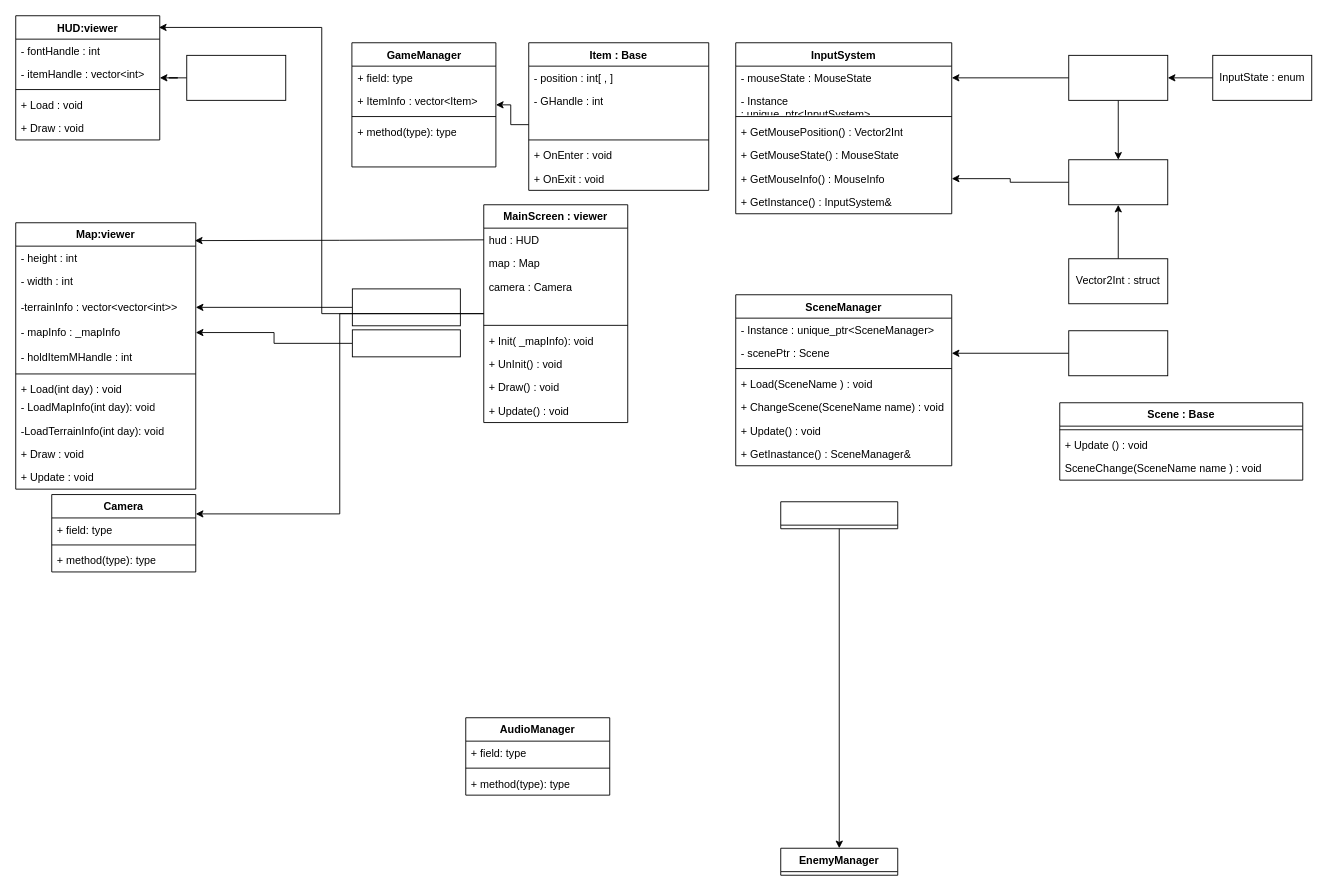
Some shapes in this 1328 by 891 pixel diagram are drawn without their labels. The centre of each missing label's shape, as x and y in pixels:
Enemy : Interf ace: (839,515)
ItemList : Enum: (236,77)
MapList : struct: (405,343)
MouseInfo : struct: (1118,182)
MouseState : enum: (1118,77)
SceneName : enum: (1118,353)
TerrainList : Enum: (405,307)
